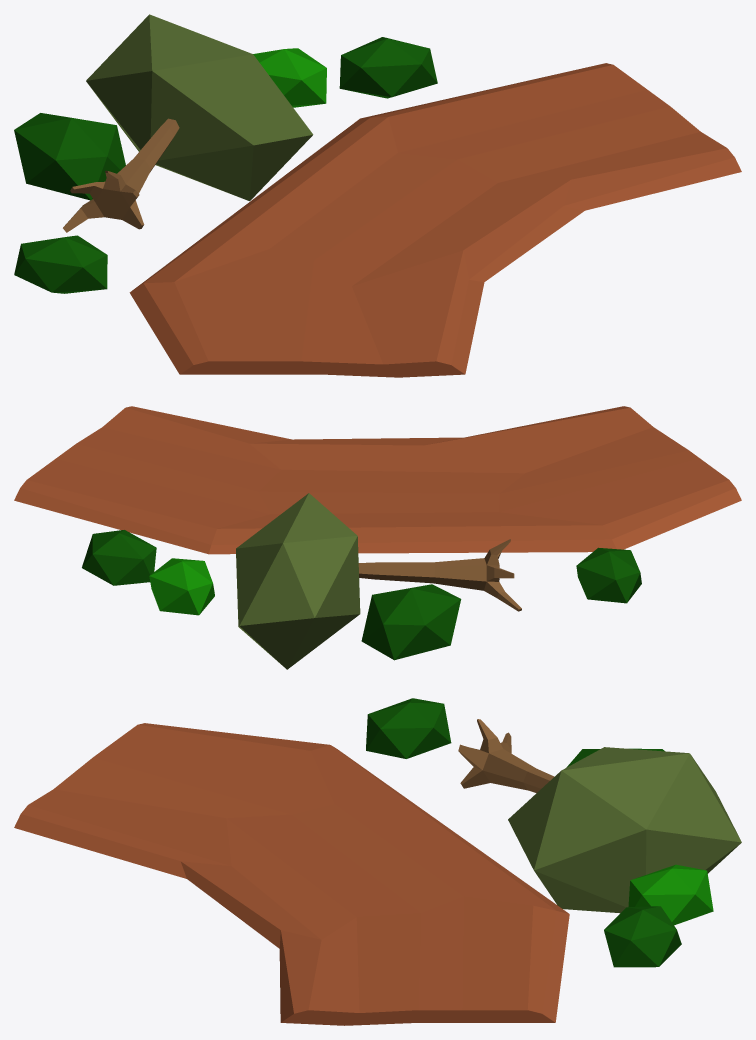
The model's file is street3_02_2.fbx.
3 renders of one model, top to bottom at view 1: azimuth 30°, elevation 25°; view 2: azimuth 150°, elevation 25°; view 3: azimuth 270°, elevation 25°, orthographic. The views are drawn at different scales.
Visible parts, largest first — view 1: readRoad02.001, tree_theFallen, bush, bush.002, bush.001, bush.003; view 2: readRoad02.001, tree_theFallen, bush, bush.002, bush.003, bush.001; view 3: readRoad02.001, tree_theFallen, bush.001, bush.002, bush.003.
Part boxes in pixels (<box>): readRoad02.001: <box>129,63,741,377</box>; tree_theFallen: <box>63,14,313,232</box>; bush: <box>14,113,125,200</box>; bush.002: <box>339,37,437,98</box>; bush.001: <box>14,235,107,293</box>; bush.003: <box>253,48,326,107</box>; readRoad02.001: <box>14,406,741,554</box>; tree_theFallen: <box>236,493,521,669</box>; bush: <box>361,584,461,660</box>; bush.002: <box>82,530,156,585</box>; bush.003: <box>149,558,214,615</box>; bush.001: <box>576,547,641,603</box>; readRoad02.001: <box>14,723,569,1025</box>; tree_theFallen: <box>458,719,741,913</box>; bush.001: <box>366,698,451,758</box>; bush.002: <box>604,906,681,967</box>; bush.003: <box>628,864,713,925</box>.
Bounding box in the file's own units: 91.72 × 19.7 × 92.71.
